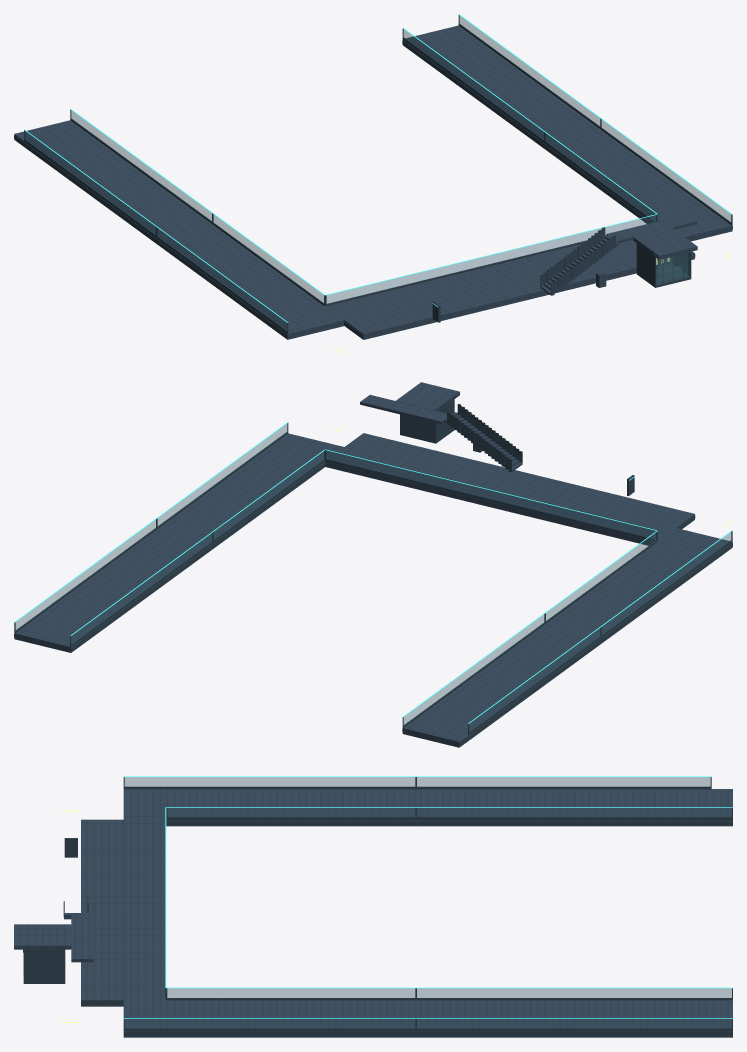
File: terrace-portal-1.glb
3 views of the same model, one above another, from view 1: azimuth 30°, elevation 25°; view 2: azimuth 150°, elevation 25°; view 3: azimuth 270°, elevation 25° (orthographic). The views are drawn at different scales.
Parts seen in each view (by area): view 1: terrace-portal-1; view 2: terrace-portal-1; view 3: terrace-portal-1.
Boxes of the visible parts, bbox=[...] form: terrace-portal-1: bbox=[14, 14, 732, 353]; terrace-portal-1: bbox=[14, 382, 732, 747]; terrace-portal-1: bbox=[14, 776, 732, 1037].
Bounding box in the file's own units: 47.1 × 5.16 × 59.
5 materials, 1 textured.
